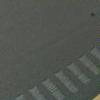Crosswalk: (15, 66, 100, 100)
